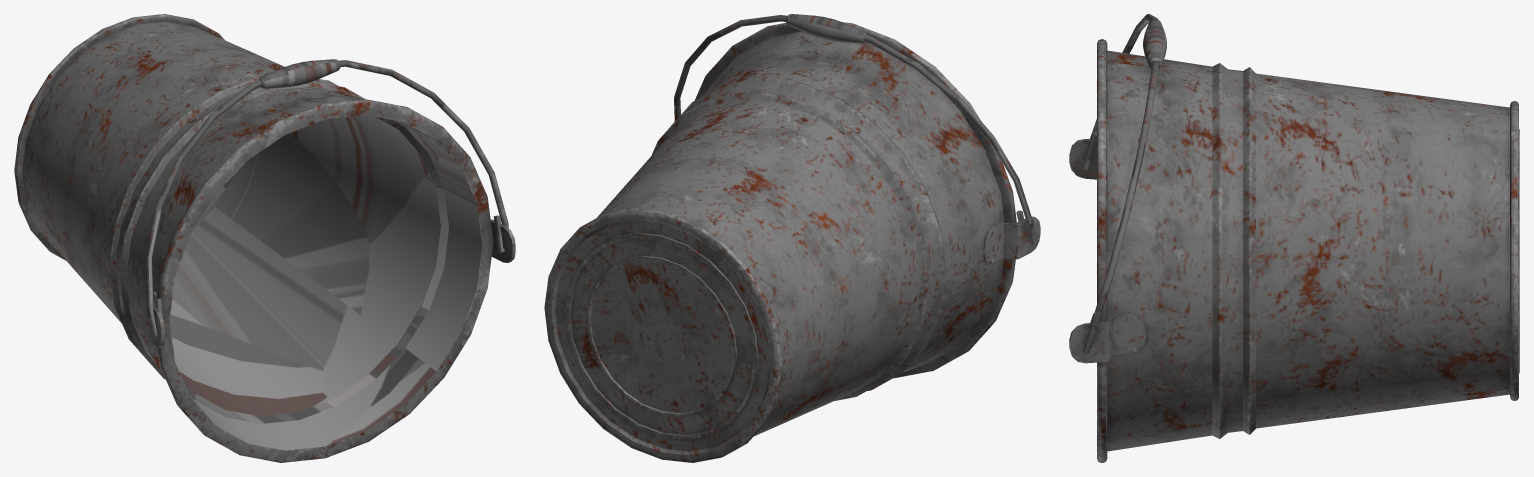
File: Literal Bucket.fbx
The picture shows the model from 3 angles, left to right: view 1: azimuth 30°, elevation 25°; view 2: azimuth 150°, elevation 25°; view 3: azimuth 270°, elevation 25°; orthographic projection. The views are drawn at different scales.
Visible parts, largest first — view 1: bucket_low_interior_0, bucket_low_Base_0, bucket_low_metal _0, bucket_low_wood_0; view 2: bucket_low_Base_0, bucket_low_metal _0, bucket_low_wood_0; view 3: bucket_low_Base_0, bucket_low_metal _0, bucket_low_wood_0.
Part boxes in pixels (x1=…): bucket_low_interior_0: x1=169, y1=115, x2=482, y2=450; bucket_low_Base_0: x1=14, y1=14, x2=515, y2=462; bucket_low_metal _0: x1=145, y1=60, x2=508, y2=337; bucket_low_wood_0: x1=259, y1=59, x2=340, y2=88; bucket_low_Base_0: x1=544, y1=22, x2=1040, y2=462; bucket_low_metal _0: x1=674, y1=15, x2=1034, y2=243; bucket_low_wood_0: x1=786, y1=14, x2=866, y2=43; bucket_low_Base_0: x1=1069, y1=39, x2=1519, y2=462; bucket_low_metal _0: x1=1082, y1=14, x2=1158, y2=353; bucket_low_wood_0: x1=1143, y1=19, x2=1166, y2=68.
Bounding box in the file's own units: 37581 × 37413 × 37251.
Materials: 4 (4 with a texture image).
